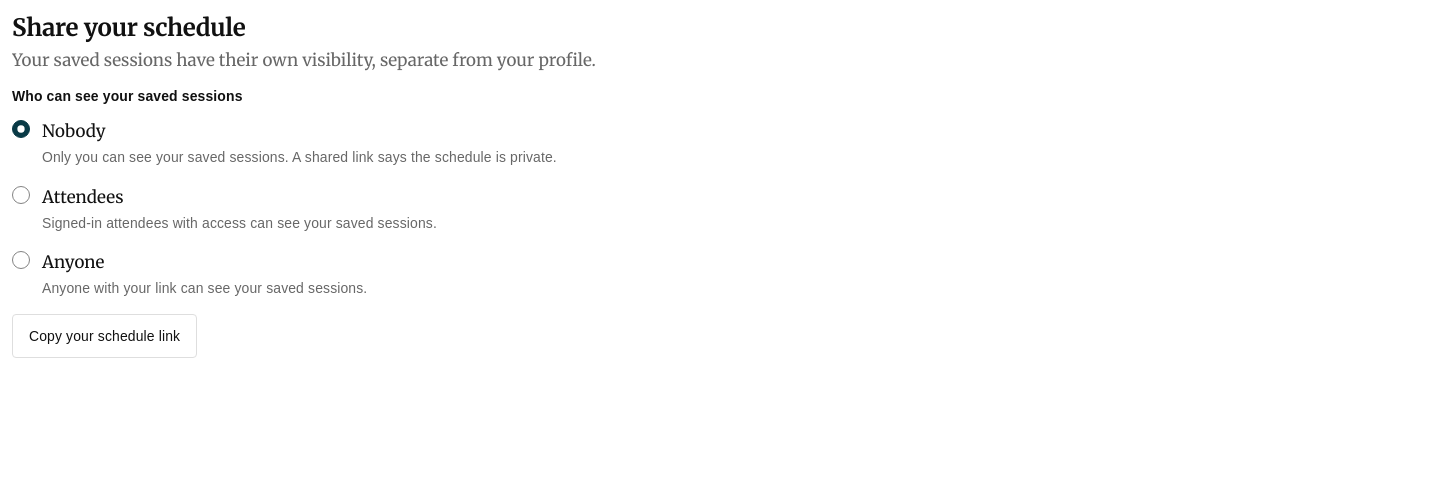
Scenario: ShareSchedule › one level of widening confirms too
This screenshot has width=1452, height=479.
Click the radio button labelled "Attendees": [21, 195] box [12,186,30,204]
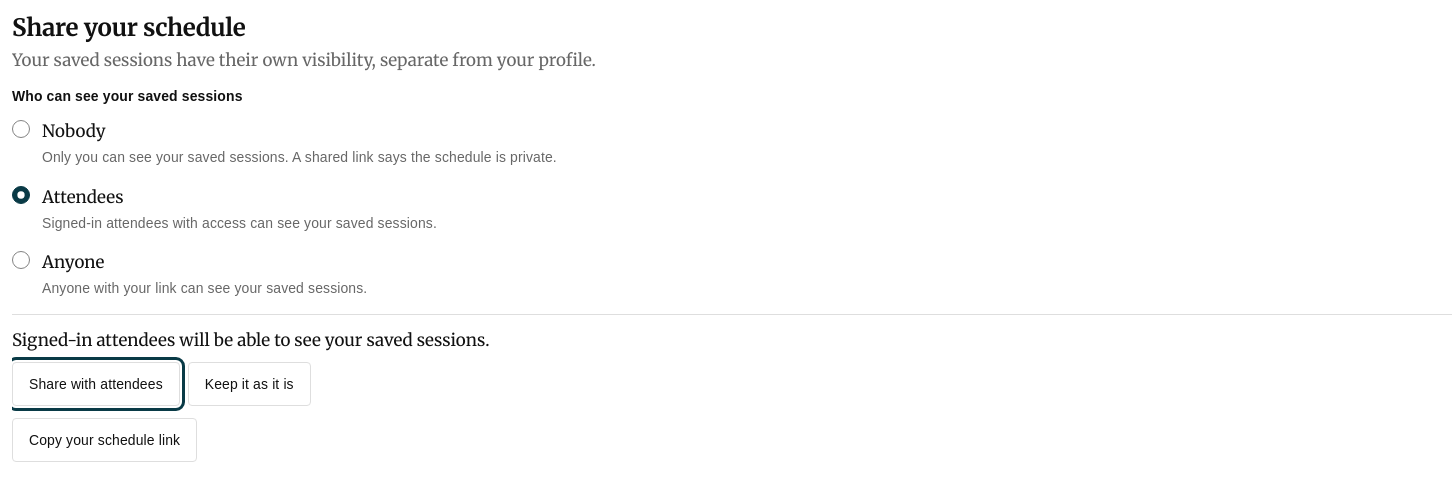
Expected: the text "Signed-in attendees will be able to see your saved sessions." is shown, [12,329,490,351]
